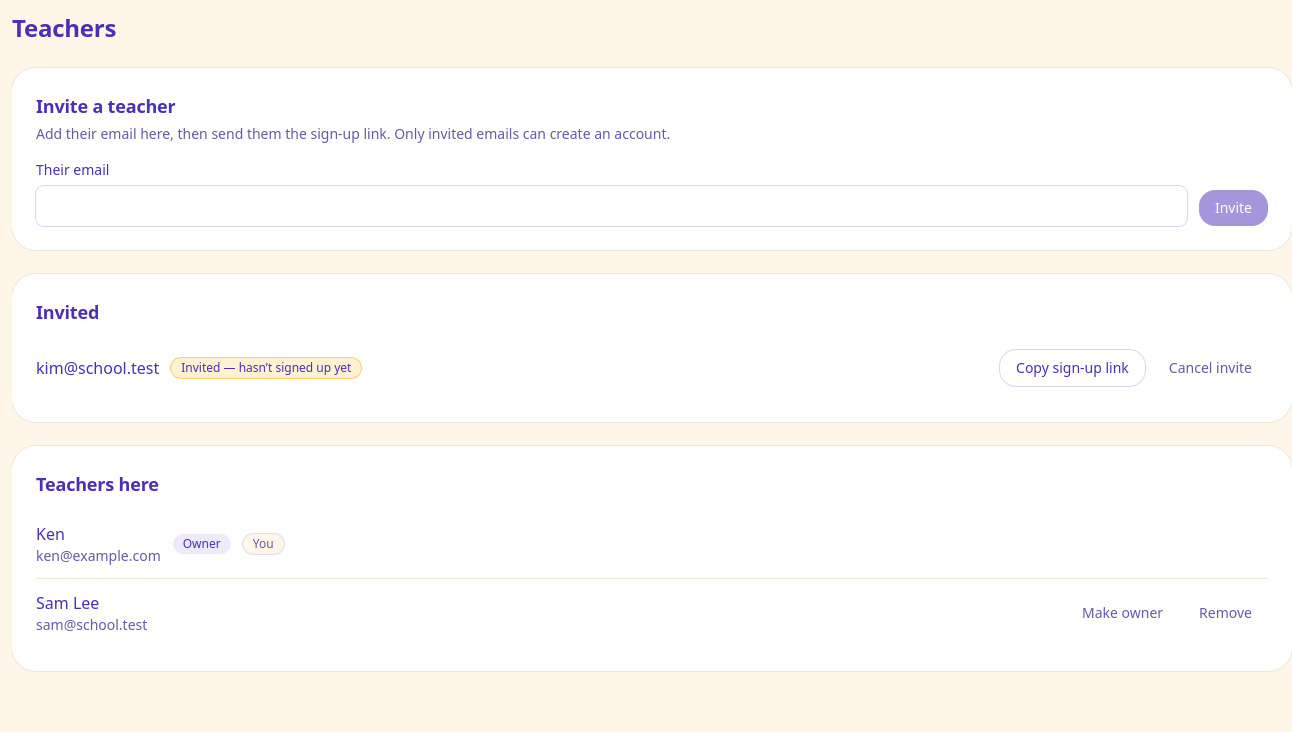
it: the owner sees teachers and open invites, and can invite someone
This screenshot has width=1292, height=732.
Expected: the text "Sam Lee" is shown, [36,592,99,614]
Expected: the text "kim@school.test" is shown, [36,356,159,380]
Type "eve@school.test" into the field labelled "Their email" at point(611, 206), box [36,186,1187,226]
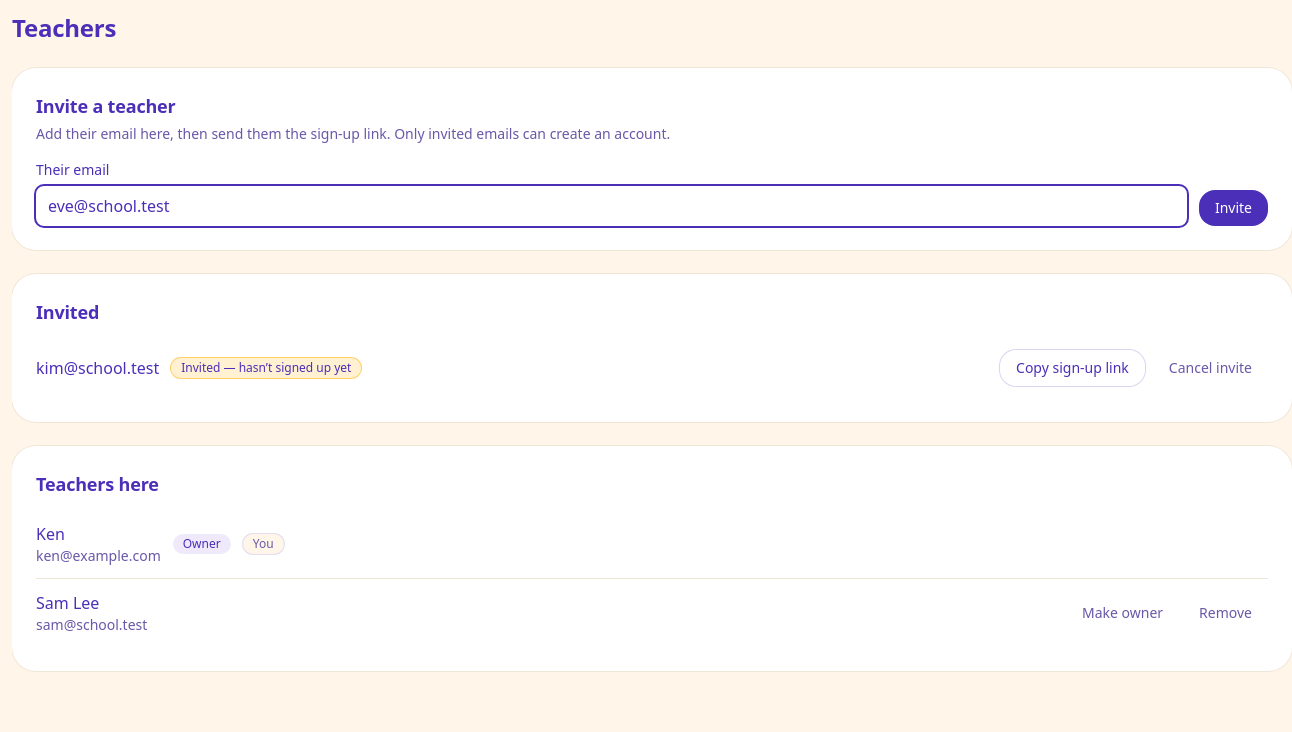
Click the button "Invite" at point(1233, 208), box [1199,190,1268,226]
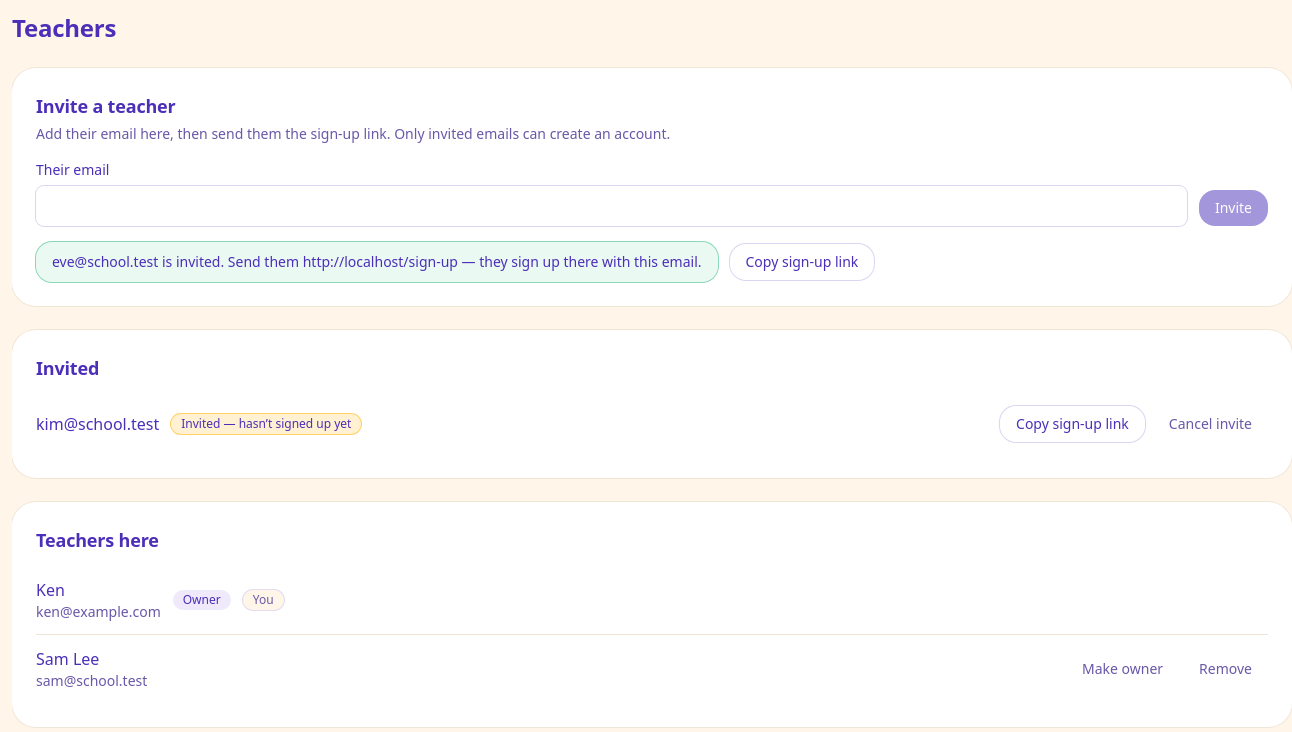
Now the text "eve@school.test is invited" is shown, box [36,242,718,282]
